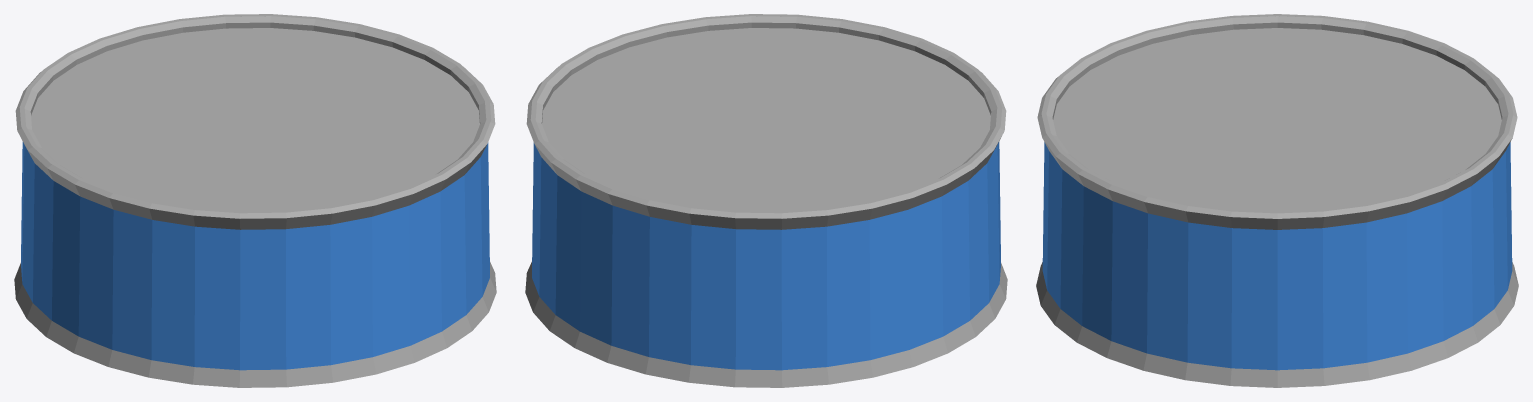
The model's file is Atun.fbx.
The picture shows the model from 3 angles, left to right: view 1: azimuth 30°, elevation 25°; view 2: azimuth 150°, elevation 25°; view 3: azimuth 270°, elevation 25°; orthographic projection.
Visible parts, largest first — view 1: Atun; view 2: Atun; view 3: Atun.
Part boxes in pixels (x1,y1,x2,y2): Atun: [14, 14, 496, 387]; Atun: [525, 14, 1007, 387]; Atun: [1036, 14, 1518, 387].
Bounding box in the file's own units: 200 × 79.14 × 200.
